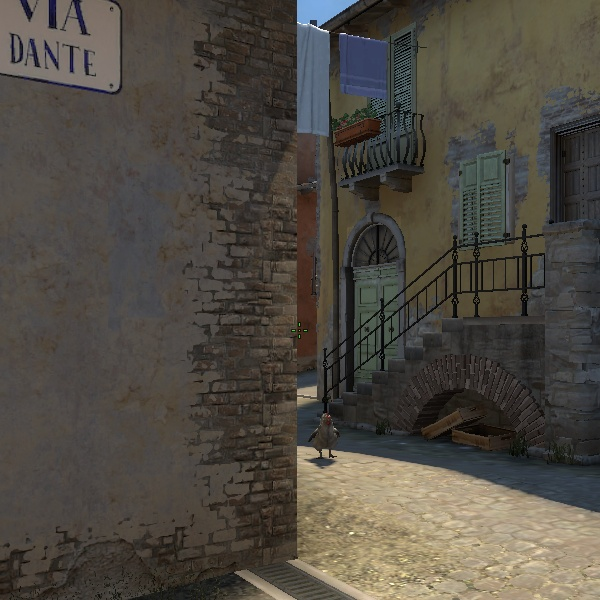t_body: (305, 411, 344, 459)
